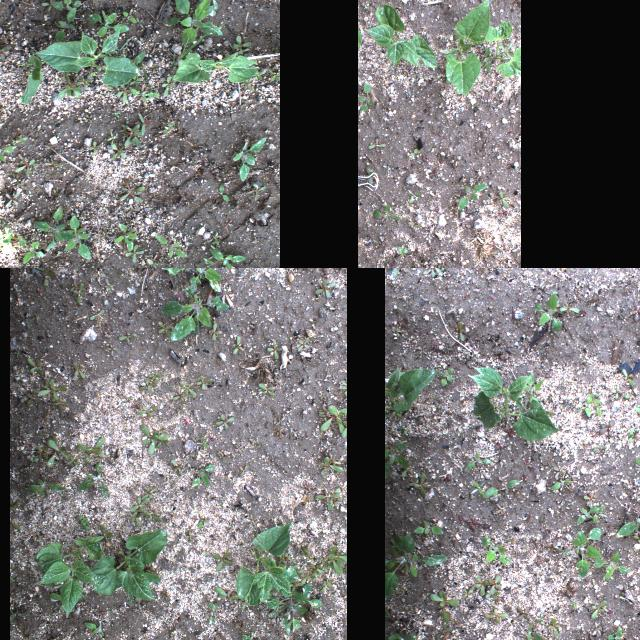crop: (466, 366, 560, 440), (36, 26, 140, 86), (89, 528, 167, 606), (36, 535, 106, 617), (236, 522, 298, 606), (441, 0, 491, 94), (364, 4, 436, 68), (385, 367, 437, 419), (174, 52, 258, 84), (484, 21, 520, 78), (18, 56, 42, 104)
weed: (384, 530, 448, 600), (160, 288, 230, 340), (167, 0, 222, 44), (264, 589, 308, 635), (179, 20, 229, 58), (35, 205, 75, 251), (572, 528, 602, 582), (233, 136, 267, 182), (64, 212, 92, 260), (533, 290, 561, 334), (76, 462, 110, 496), (594, 552, 630, 582), (89, 10, 129, 36), (40, 435, 72, 467), (186, 268, 222, 295), (47, 590, 87, 614), (140, 424, 170, 454), (430, 589, 458, 621), (386, 440, 408, 480), (482, 536, 511, 566), (614, 506, 640, 539), (458, 182, 488, 210), (319, 404, 347, 434), (54, 6, 76, 42), (209, 247, 245, 268), (154, 236, 188, 258), (17, 235, 43, 263), (296, 583, 324, 609), (26, 478, 64, 497), (482, 479, 518, 498), (84, 437, 108, 465), (316, 452, 344, 476), (58, 72, 82, 98), (114, 224, 136, 252), (38, 378, 66, 400), (358, 79, 374, 117), (576, 505, 606, 525), (14, 154, 38, 178), (120, 179, 144, 203), (136, 62, 154, 94), (119, 123, 143, 147), (372, 204, 404, 222), (190, 464, 216, 486), (550, 466, 572, 492), (214, 586, 242, 606), (212, 548, 234, 572), (84, 614, 104, 640), (465, 452, 491, 472), (314, 488, 342, 506), (327, 546, 343, 576), (314, 279, 336, 299), (0, 219, 12, 255), (130, 88, 160, 102), (412, 521, 442, 535), (24, 358, 44, 378), (129, 496, 149, 516), (435, 621, 454, 640), (234, 35, 252, 55), (178, 380, 198, 398), (152, 369, 172, 387), (246, 183, 266, 200), (137, 112, 151, 136), (133, 570, 161, 582), (413, 473, 427, 497), (484, 610, 508, 624), (51, 0, 81, 11), (126, 244, 144, 262), (116, 84, 134, 102), (34, 268, 53, 285), (116, 38, 132, 58), (215, 413, 235, 429), (143, 508, 163, 524), (386, 629, 415, 640), (76, 443, 102, 455), (72, 282, 86, 304), (328, 550, 347, 566), (70, 361, 86, 379), (258, 382, 276, 398), (196, 374, 214, 390), (138, 378, 156, 394), (328, 488, 340, 512), (140, 486, 158, 502), (308, 562, 326, 578), (545, 539, 561, 557), (161, 77, 175, 97), (366, 167, 380, 187), (268, 339, 282, 359), (474, 576, 488, 596), (488, 575, 502, 595), (527, 626, 547, 640), (546, 618, 560, 638), (128, 509, 142, 528), (121, 8, 137, 24), (0, 146, 16, 162), (231, 336, 245, 354), (158, 320, 172, 338), (118, 331, 136, 345), (25, 388, 39, 406), (169, 458, 183, 476), (100, 525, 114, 543), (10, 604, 24, 622), (577, 400, 591, 418), (592, 600, 606, 618), (484, 46, 494, 70), (136, 406, 156, 418), (208, 601, 218, 625), (423, 268, 447, 278), (600, 419, 614, 436), (0, 36, 10, 59), (607, 628, 626, 640), (5, 192, 19, 208), (112, 144, 126, 160), (66, 454, 82, 468), (302, 570, 316, 586), (44, 157, 61, 170), (369, 138, 387, 150), (441, 368, 453, 386), (8, 136, 28, 146), (559, 306, 579, 316), (498, 190, 509, 208), (242, 631, 264, 640), (266, 68, 280, 82), (407, 189, 421, 203), (320, 578, 334, 592), (517, 607, 531, 621), (130, 76, 142, 92), (106, 130, 118, 146), (89, 308, 105, 320), (172, 390, 188, 402), (287, 581, 303, 593), (130, 594, 142, 610), (622, 370, 634, 386), (162, 122, 175, 136), (219, 184, 229, 202), (50, 398, 68, 408), (127, 507, 145, 517), (76, 78, 92, 89), (104, 278, 115, 294), (43, 379, 51, 401), (458, 322, 467, 341), (89, 142, 101, 156), (126, 204, 140, 216), (134, 51, 146, 65), (298, 338, 310, 352), (471, 481, 483, 495), (388, 268, 403, 279), (79, 514, 89, 530), (10, 497, 20, 513), (612, 384, 622, 400), (206, 232, 218, 245), (242, 80, 254, 92), (211, 323, 219, 341), (106, 343, 118, 355), (586, 393, 600, 403), (396, 246, 409, 256), (198, 436, 208, 449), (35, 444, 43, 460), (409, 148, 419, 160), (274, 416, 286, 426), (175, 404, 185, 416), (168, 478, 178, 490), (157, 438, 169, 448), (238, 465, 248, 477), (185, 532, 197, 542), (291, 566, 303, 576), (54, 583, 66, 593), (462, 587, 472, 599), (490, 596, 502, 606), (450, 154, 458, 168), (408, 222, 422, 230), (147, 372, 161, 380), (40, 0, 51, 10), (29, 629, 39, 640), (341, 420, 347, 438), (152, 428, 164, 437), (183, 337, 193, 347), (44, 410, 54, 420), (199, 518, 209, 528), (9, 520, 19, 530), (321, 562, 331, 572), (316, 556, 326, 566), (160, 591, 170, 601), (208, 0, 219, 9), (70, 284, 82, 292), (11, 350, 23, 358), (122, 396, 134, 404), (248, 437, 260, 445), (278, 554, 286, 566), (635, 456, 640, 475), (304, 495, 310, 509), (634, 530, 640, 544), (108, 86, 118, 94), (318, 392, 328, 400), (130, 402, 140, 410), (234, 444, 242, 454), (216, 452, 226, 460), (331, 500, 341, 508), (284, 553, 294, 561), (145, 566, 155, 574), (51, 190, 60, 198), (306, 481, 312, 493), (250, 514, 256, 526), (203, 258, 214, 264), (151, 64, 159, 72), (255, 72, 263, 80), (16, 182, 26, 188), (476, 0, 491, 4), (28, 457, 38, 463), (200, 268, 214, 272), (342, 380, 346, 394), (242, 100, 248, 108), (84, 116, 92, 122), (307, 566, 313, 574), (256, 444, 266, 448), (114, 112, 120, 118), (10, 575, 14, 583), (386, 165, 389, 175), (75, 268, 83, 271), (18, 375, 22, 381), (328, 560, 334, 564), (322, 558, 326, 564)
